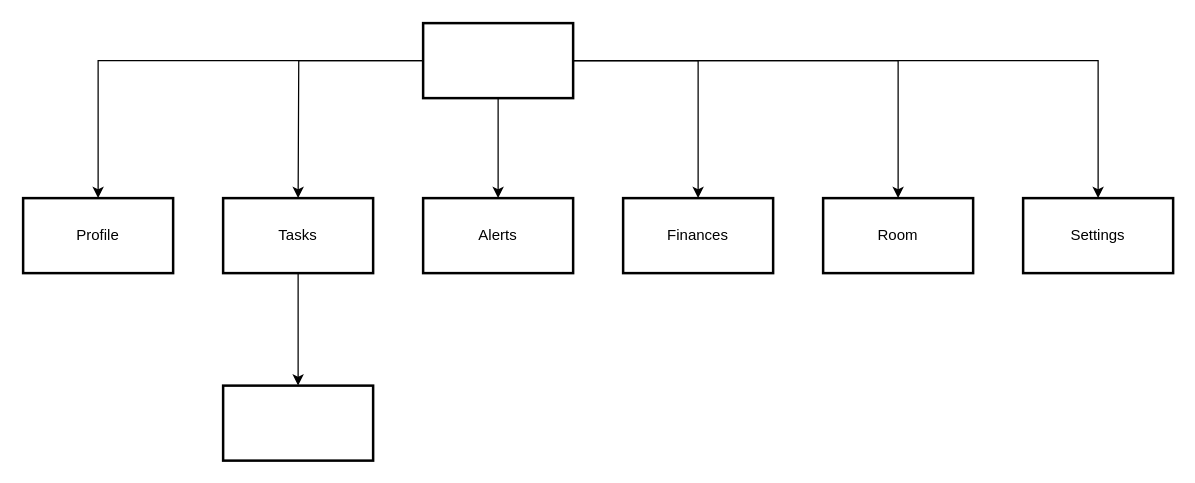
The diagram is 1195 pixels wide and 483 high, and some of its shapes have lost their labels. Each missing label, with the centre of its shape:
"Home" goes at (497,60).
"Individual Task page" goes at (297,422).
